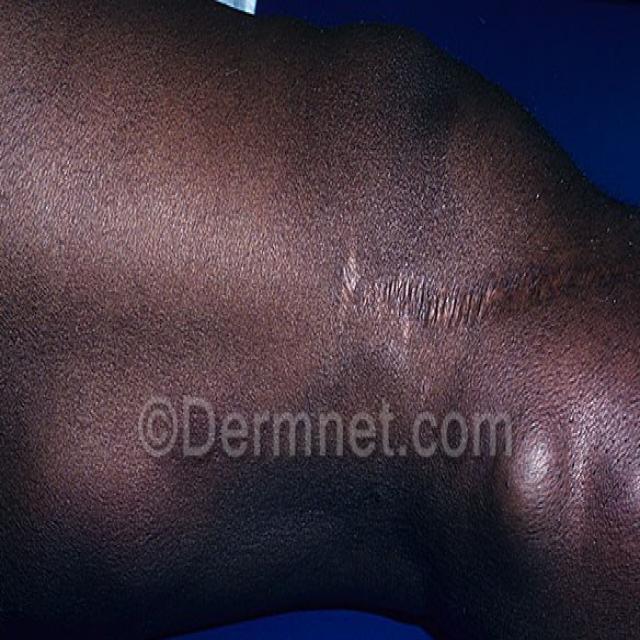Vascular Tumors: (339, 51, 640, 355)
